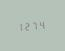four: (39, 19, 45, 29)
one: (18, 21, 24, 31)
seven: (32, 20, 38, 30)
two: (25, 20, 31, 31)
